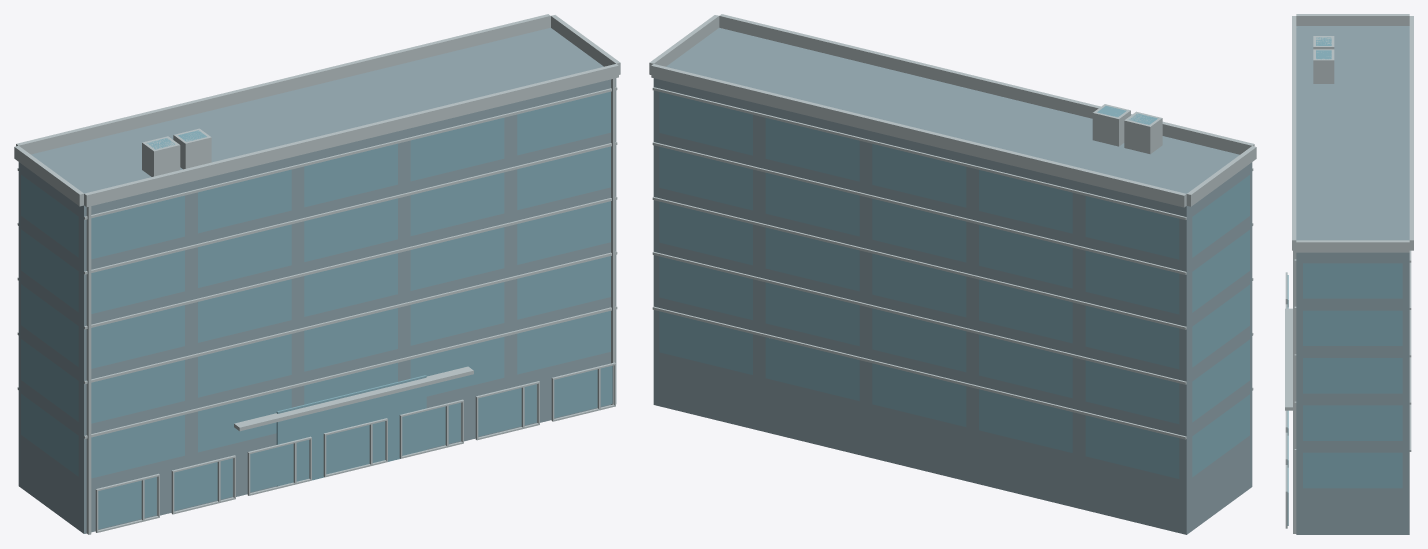
Rendered from commercial_4x1_b.glb.
The picture shows the model from 3 angles, left to right: view 1: azimuth 30°, elevation 25°; view 2: azimuth 150°, elevation 25°; view 3: azimuth 270°, elevation 25°; orthographic projection. The views are drawn at different scales.
Visible parts, largest first — view 1: commercial_4x1_b_0; view 2: commercial_4x1_b_0; view 3: commercial_4x1_b_0.
Part boxes in pixels (x1,y1,x2,y2): commercial_4x1_b_0: [14, 14, 620, 534]; commercial_4x1_b_0: [649, 14, 1256, 534]; commercial_4x1_b_0: [1285, 14, 1413, 534].
Size of the model in its own units: 31 by 19.5 by 7.4.
